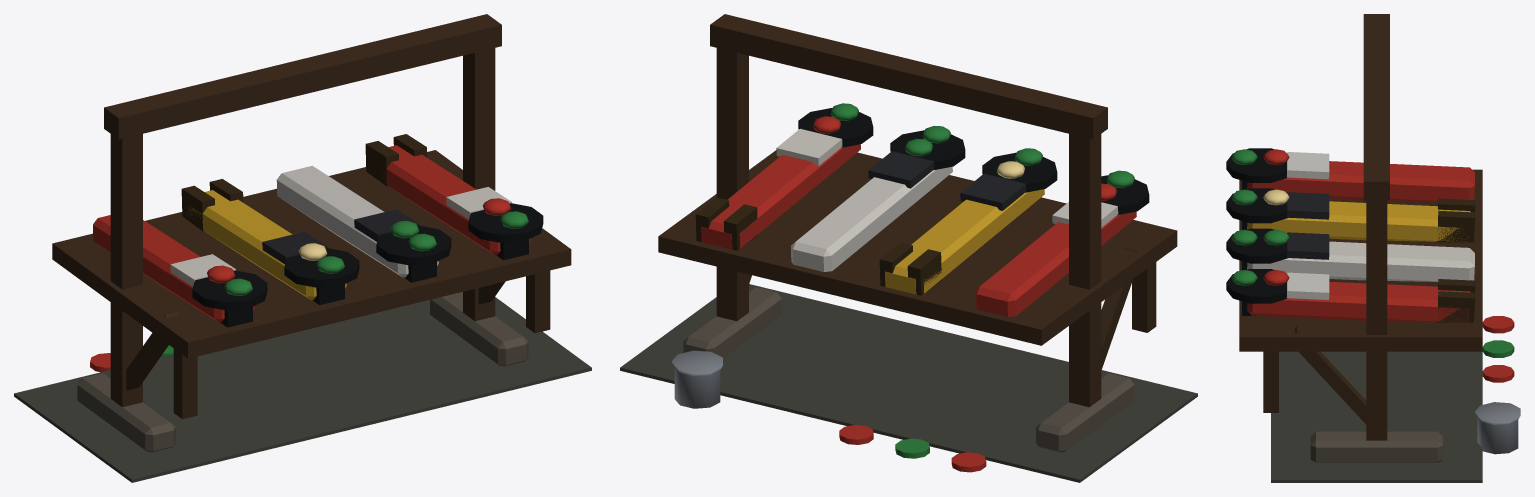
File: signal-arm-sign-set.glb
3 views of the same model, side by side, from view 1: azimuth 30°, elevation 25°; view 2: azimuth 150°, elevation 25°; view 3: azimuth 270°, elevation 25° (orthographic). The views are drawn at different scales.
Visible parts, largest first — view 1: signal_arm_sign_set; view 2: signal_arm_sign_set; view 3: signal_arm_sign_set.
Part boxes in pixels (x1,y1,x2,y2): signal_arm_sign_set: (14, 14, 591, 482); signal_arm_sign_set: (620, 14, 1197, 482); signal_arm_sign_set: (1226, 14, 1520, 482).
Bounding box in the file's own units: 1.8 × 1.19 × 1.11.
